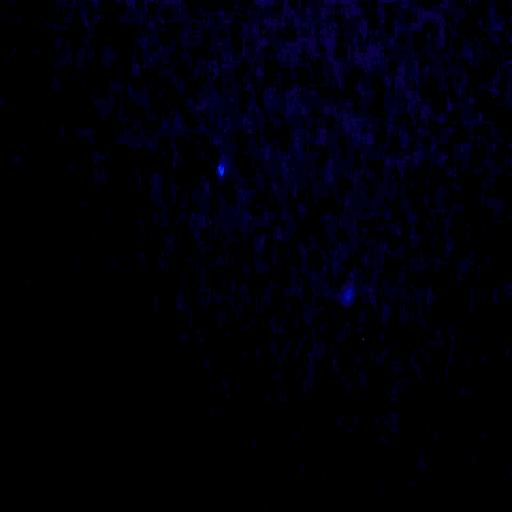object-detection-project: (218, 164, 225, 176)
